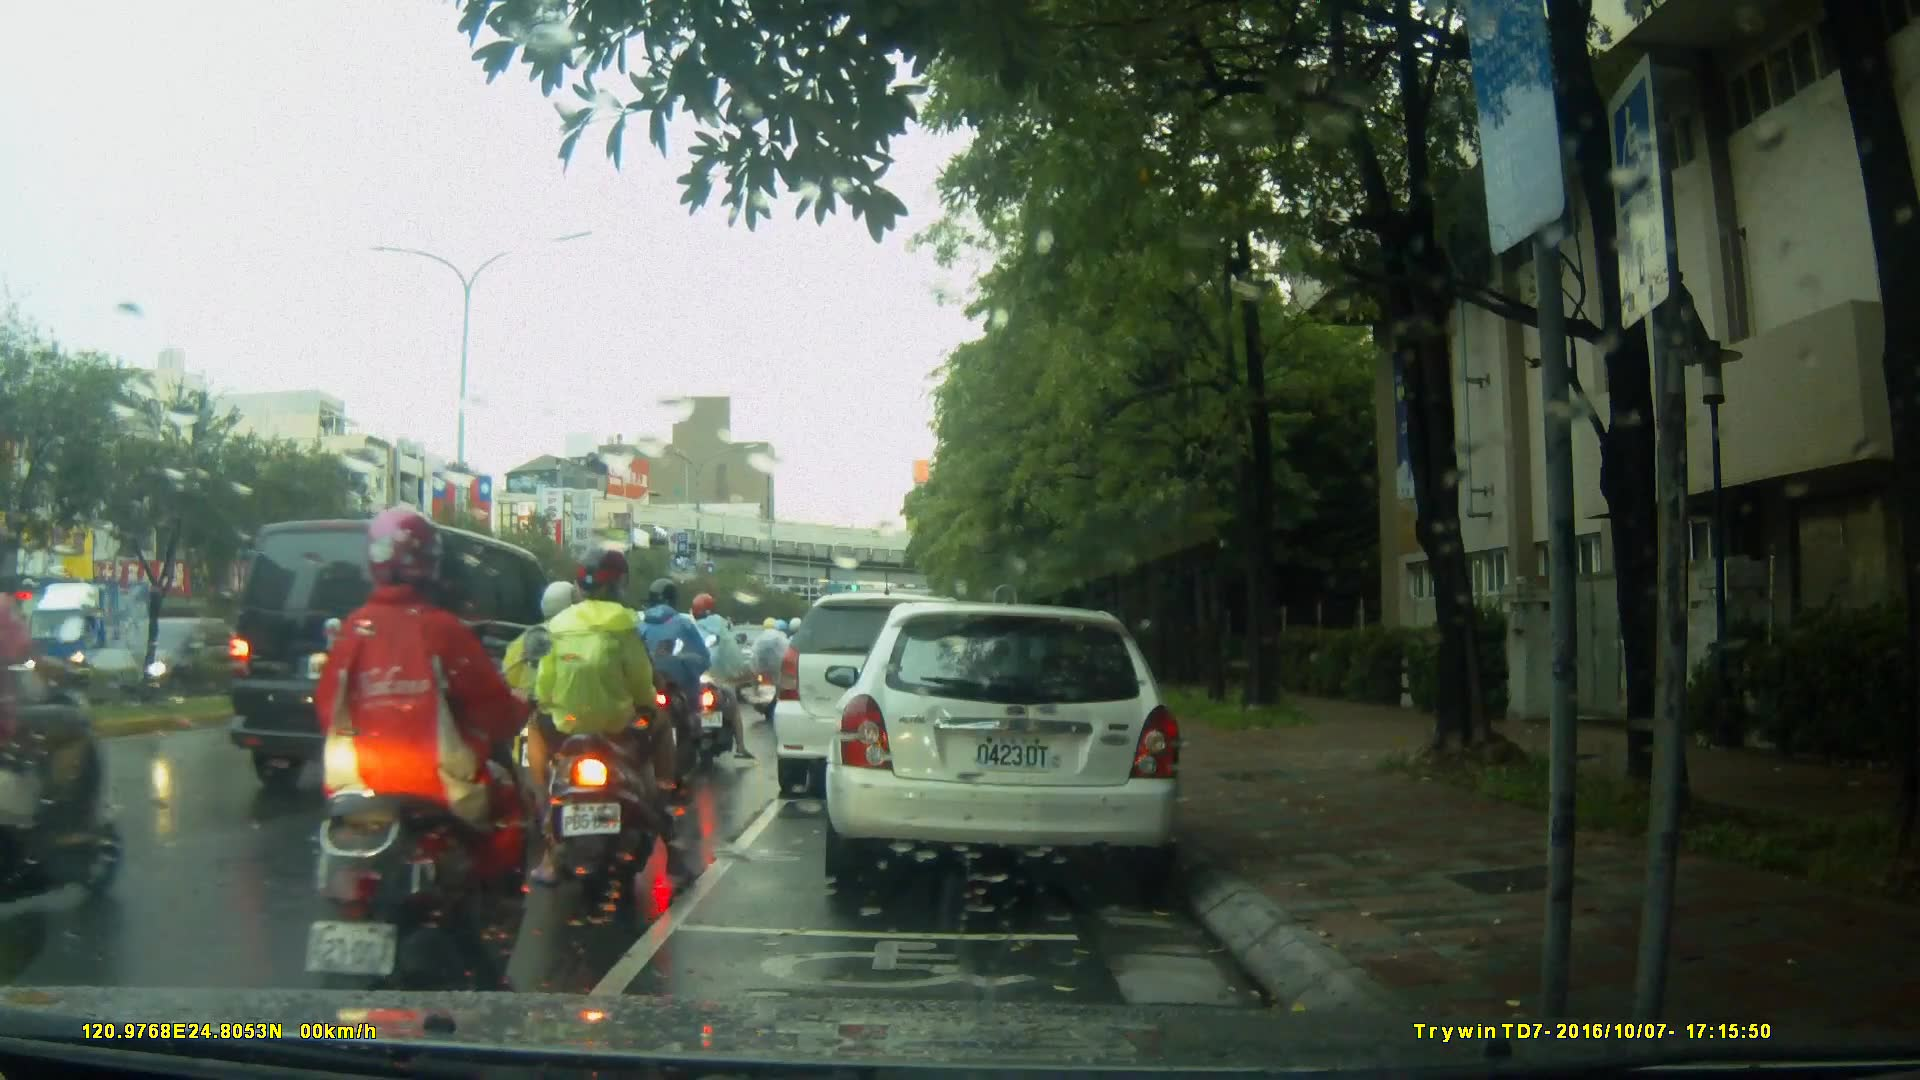rider: (301, 509, 551, 1019), (519, 544, 688, 903), (1, 575, 135, 902), (522, 585, 629, 858), (626, 581, 725, 791), (681, 593, 750, 765), (747, 612, 793, 719)
vehicle: (214, 517, 604, 803), (822, 604, 1188, 883), (774, 595, 995, 802), (525, 607, 732, 752), (55, 613, 260, 710)
